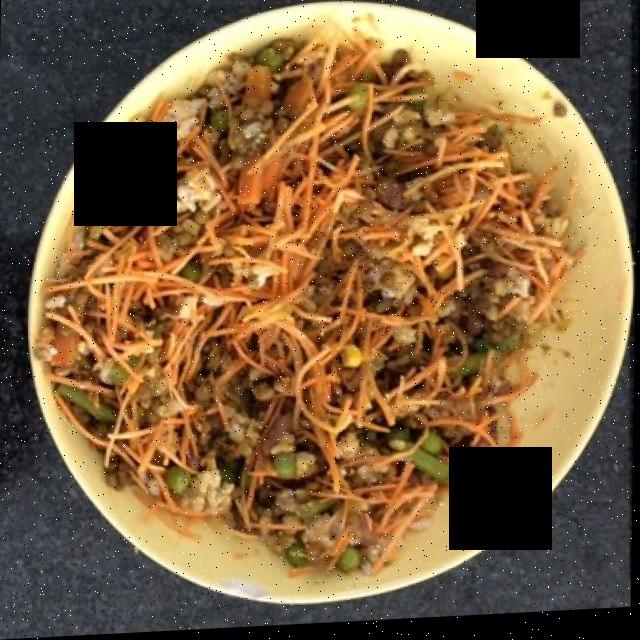carrot-raw: (31, 30, 578, 588)
french-beans: (52, 220, 531, 490)
